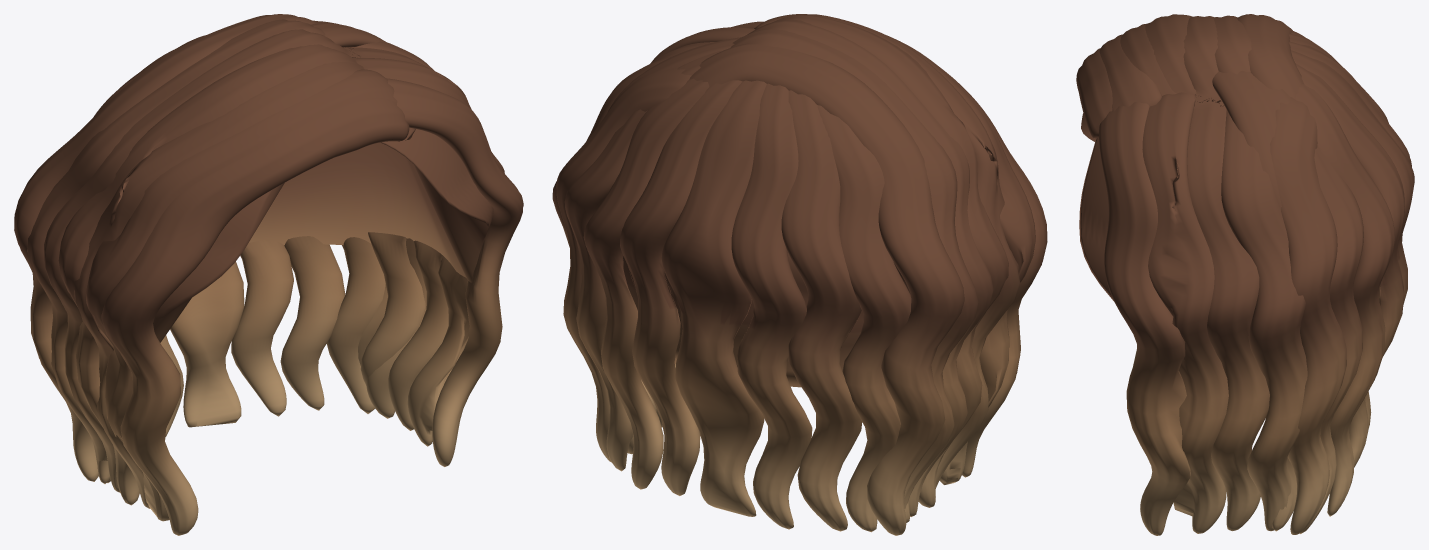
File: Ombre-e458574e0c9d253-hair.glb
The picture shows the model from 3 angles, left to right: view 1: azimuth 30°, elevation 25°; view 2: azimuth 150°, elevation 25°; view 3: azimuth 270°, elevation 25°; orthographic projection.
Visible parts, largest first — view 1: 226 hair / Hair / sculpted 0.001, 226 hair / Hair / sculpted 1.002, 226 hair / Hair / sculpted 2.001, 226 hair / Hair / sculpted 1.001; view 2: 226 hair / Hair / sculpted 0.001, 226 hair / Hair / sculpted 2.001, 226 hair / Hair / sculpted 1.002, 226 hair / Hair / sculpted 1.001; view 3: 226 hair / Hair / sculpted 1.002, 226 hair / Hair / sculpted 2.001, 226 hair / Hair / sculpted 0.001, 226 hair / Hair / sculpted 1.001.
Boxes of the visible parts, box(x1,y1,x2,y2) form: 226 hair / Hair / sculpted 0.001: box(14, 14, 448, 535); 226 hair / Hair / sculpted 1.002: box(44, 23, 523, 521); 226 hair / Hair / sculpted 2.001: box(27, 19, 504, 508); 226 hair / Hair / sculpted 1.001: box(153, 129, 493, 342); 226 hair / Hair / sculpted 0.001: box(583, 15, 1047, 535); 226 hair / Hair / sculpted 2.001: box(556, 14, 1020, 532); 226 hair / Hair / sculpted 1.002: box(552, 14, 1035, 531); 226 hair / Hair / sculpted 1.001: box(623, 251, 863, 387); 226 hair / Hair / sculpted 1.002: box(1099, 16, 1404, 535); 226 hair / Hair / sculpted 2.001: box(1120, 15, 1414, 534); 226 hair / Hair / sculpted 0.001: box(1076, 14, 1411, 531); 226 hair / Hair / sculpted 1.001: box(1079, 113, 1380, 301).
Bounding box in the file's own units: 1.13 × 1.13 × 0.7898.
4 materials, 4 textured.
